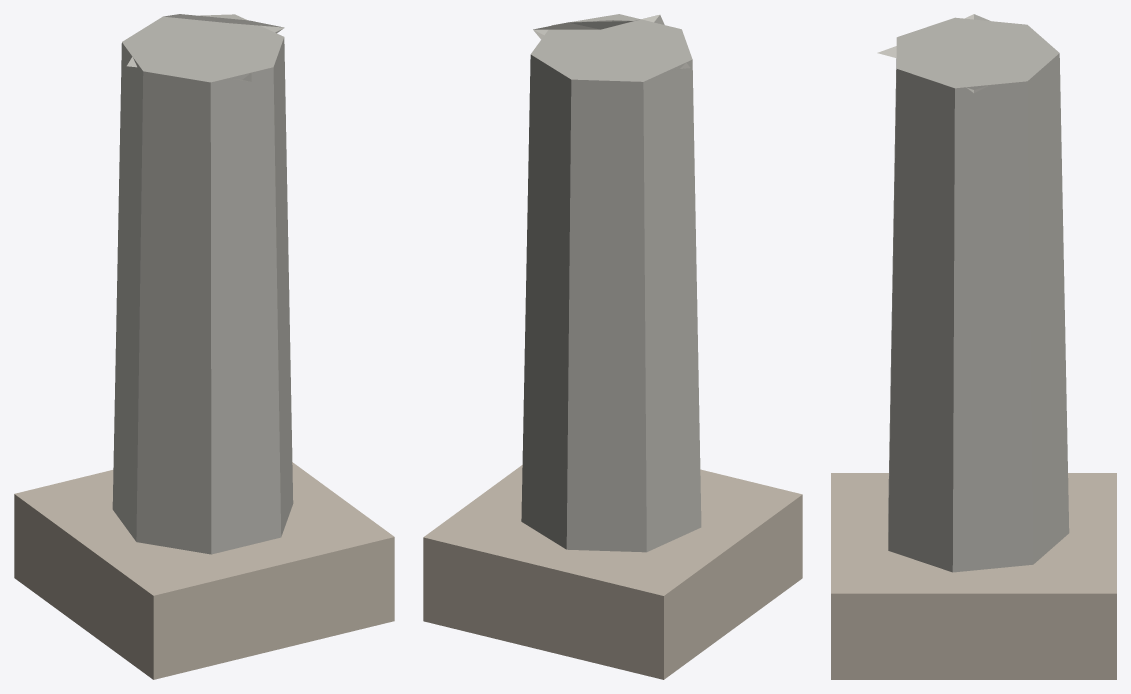
The model's file is column_v30.glb.
The picture shows the model from 3 angles, left to right: view 1: azimuth 30°, elevation 25°; view 2: azimuth 150°, elevation 25°; view 3: azimuth 270°, elevation 25°; orthographic projection. The views are drawn at different scales.
Parts seen in each view (by area): view 1: lod0; view 2: lod0; view 3: lod0.
Boxes of the visible parts, <box> form: lod0: <box>14,14,394,679</box>; lod0: <box>423,14,802,679</box>; lod0: <box>831,14,1116,679</box>.
Size of what is drawn, in the model's own units: 0.48 by 1.11 by 0.48.
